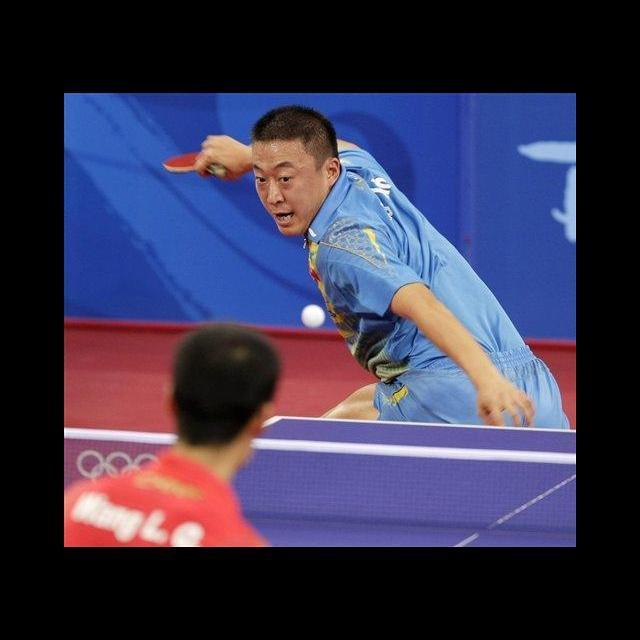ping-pong-ball: (300, 304, 324, 328)
